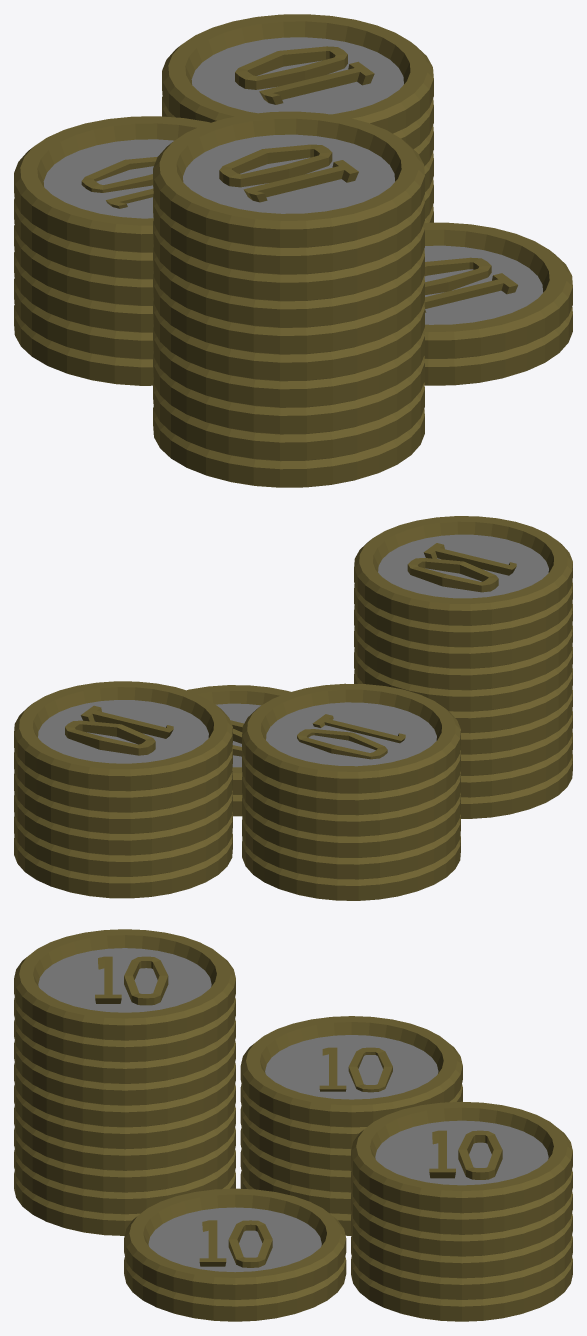
The model's file is moneditas.glb.
The picture shows the model from 3 angles, top to bottom: view 1: azimuth 30°, elevation 25°; view 2: azimuth 150°, elevation 25°; view 3: azimuth 270°, elevation 25°; orthographic projection. The views are drawn at different scales.
Visible parts, largest first — view 1: Circle.001, Circle, Circle.003, Circle.002, Cylinder.001, Cylinder.002, Cube.001, Cylinder.003, Cube.002, Cylinder, Cube.003; view 2: Circle.001, Circle, Circle.003, Circle.002, Cylinder.001, Cylinder.002, Cylinder, Cube.001, Cube.002, Cube; view 3: Circle.001, Circle.003, Circle, Circle.002, Cylinder.001, Cylinder.002, Cylinder.003, Cylinder, Cube.001, Cube.003, Cube.002, Cube.
Part boxes in pixels (x1,y1,x2,y2): Circle.001: (153,111,424,487); Circle: (14,116,210,385); Circle.003: (162,14,433,222); Circle.002: (424,222,572,385); Cylinder.001: (235,46,347,89); Cylinder.002: (219,144,332,187); Cube.001: (259,61,374,104); Cylinder.003: (424,257,491,294); Cube.002: (243,160,358,202); Cylinder: (81,157,157,192); Cube.003: (424,273,517,312); Circle.001: (354,516,572,818); Circle: (242,683,460,900); Circle.003: (14,681,232,898); Circle.002: (187,685,290,816); Cylinder.001: (65,720,155,755); Cylinder.002: (407,558,498,592); Cylinder: (297,729,387,759); Cube.001: (80,705,173,738); Cube.002: (423,543,516,575); Cube: (312,714,405,743); Circle.001: (14,929,235,1235); Circle.003: (351,1101,572,1321); Circle: (240,1016,462,1235); Circle.002: (124,1188,346,1321); Cylinder.001: (458,1130,502,1179); Cylinder.002: (124,956,168,1005); Cylinder.003: (228,1220,272,1267); Cylinder: (348,1047,392,1092); Cube.001: (429,1130,455,1178); Cube.003: (199,1220,226,1266); Cube.002: (95,956,121,1003); Cube: (319,1047,346,1091).
Size of the model in its own units: 3.83 by 2.16 by 5.04.
